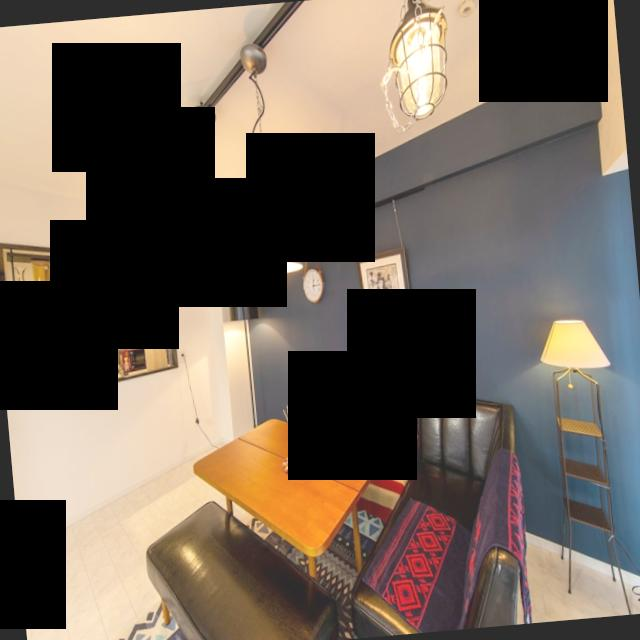vintage desk: (189, 406, 392, 569)
vintage sofa: (131, 353, 540, 640)
